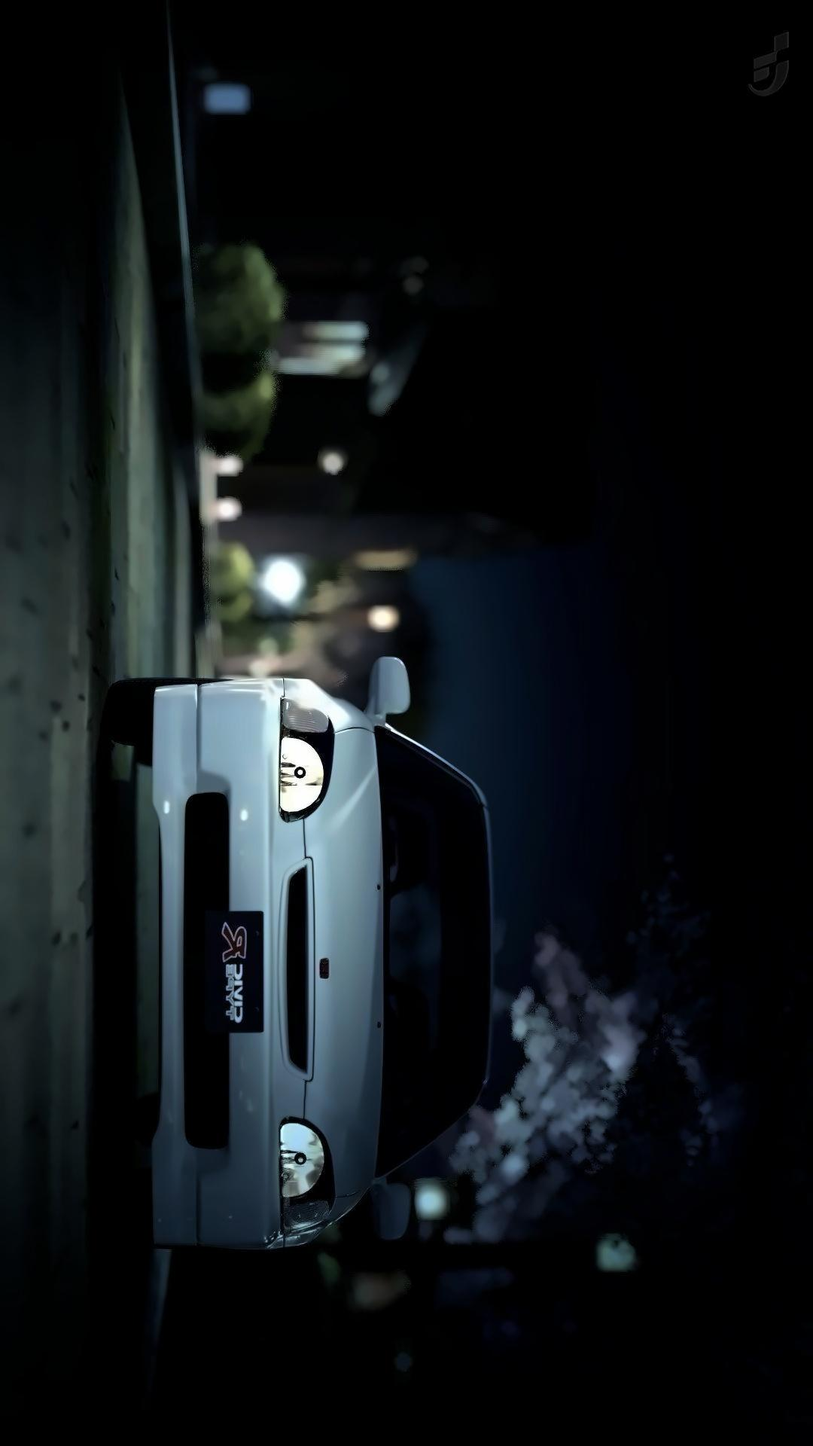Car hood: (299, 698, 406, 1253)
Front bumper: (128, 671, 299, 1260)
Headlight - -L-: (279, 1115, 330, 1253)
Headlight - -R-: (272, 696, 334, 841)
Side mirror - -R-: (359, 640, 420, 747)
